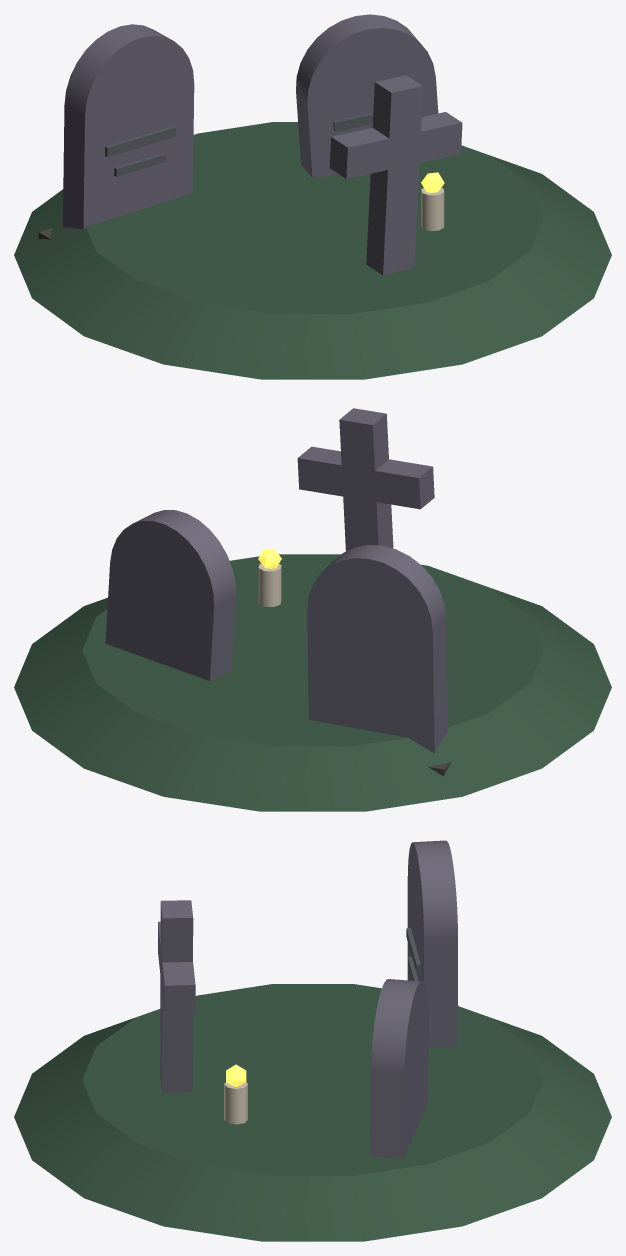
File: deco_gravestone.glb
The picture shows the model from 3 angles, top to bottom: view 1: azimuth 30°, elevation 25°; view 2: azimuth 150°, elevation 25°; view 3: azimuth 270°, elevation 25°; orthographic projection.
Visible parts, largest first — view 1: deco_gravestone; view 2: deco_gravestone; view 3: deco_gravestone.
Part boxes in pixels (left/top/right/bottom): deco_gravestone: left=14, top=14, right=611, bottom=379; deco_gravestone: left=14, top=408, right=611, bottom=811; deco_gravestone: left=14, top=840, right=611, bottom=1241.
Bounding box in the file's own units: 3.45 × 1.44 × 3.5.
